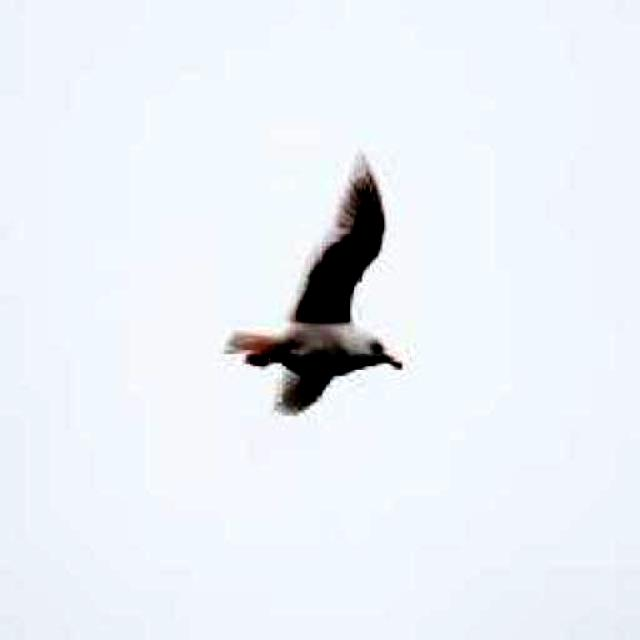airplane: (222, 146, 401, 420)
